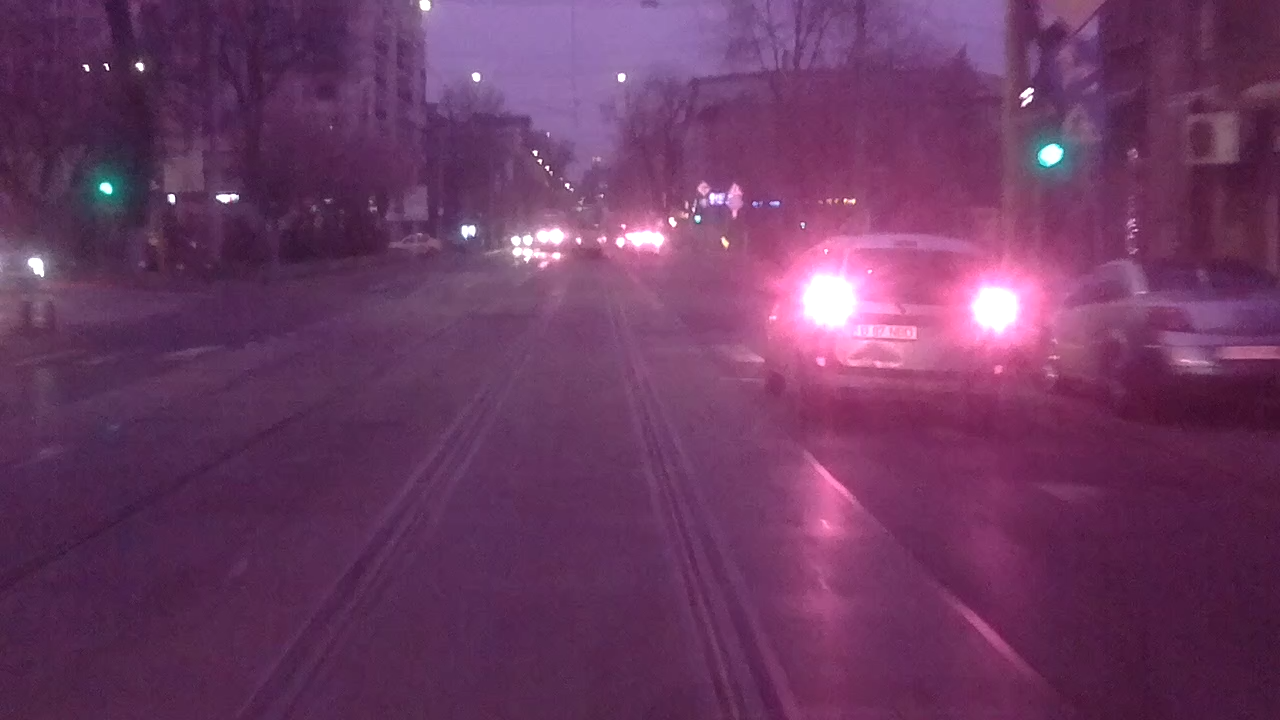license-plate: (847, 320, 920, 342)
